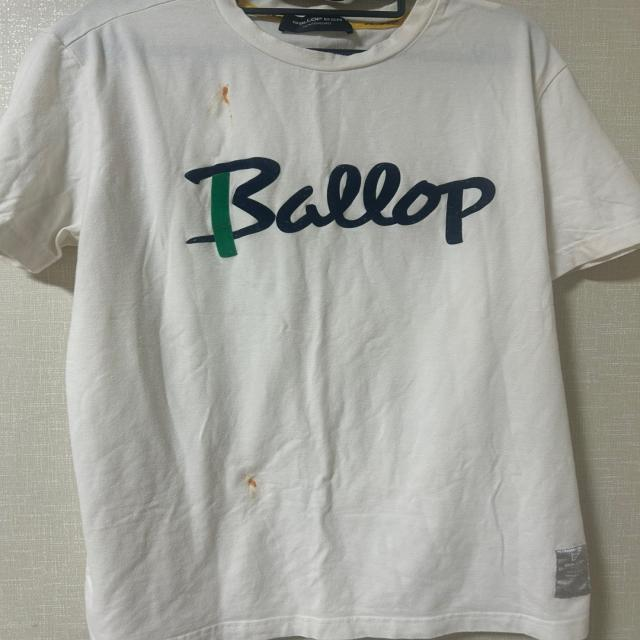stain: (216, 77, 238, 129), (242, 472, 261, 500)
